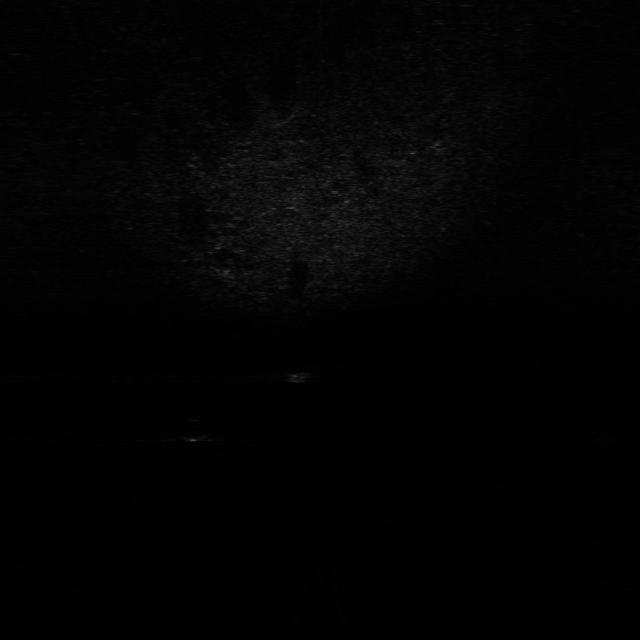ball: (173, 416, 213, 444)
cube: (282, 359, 323, 386)
